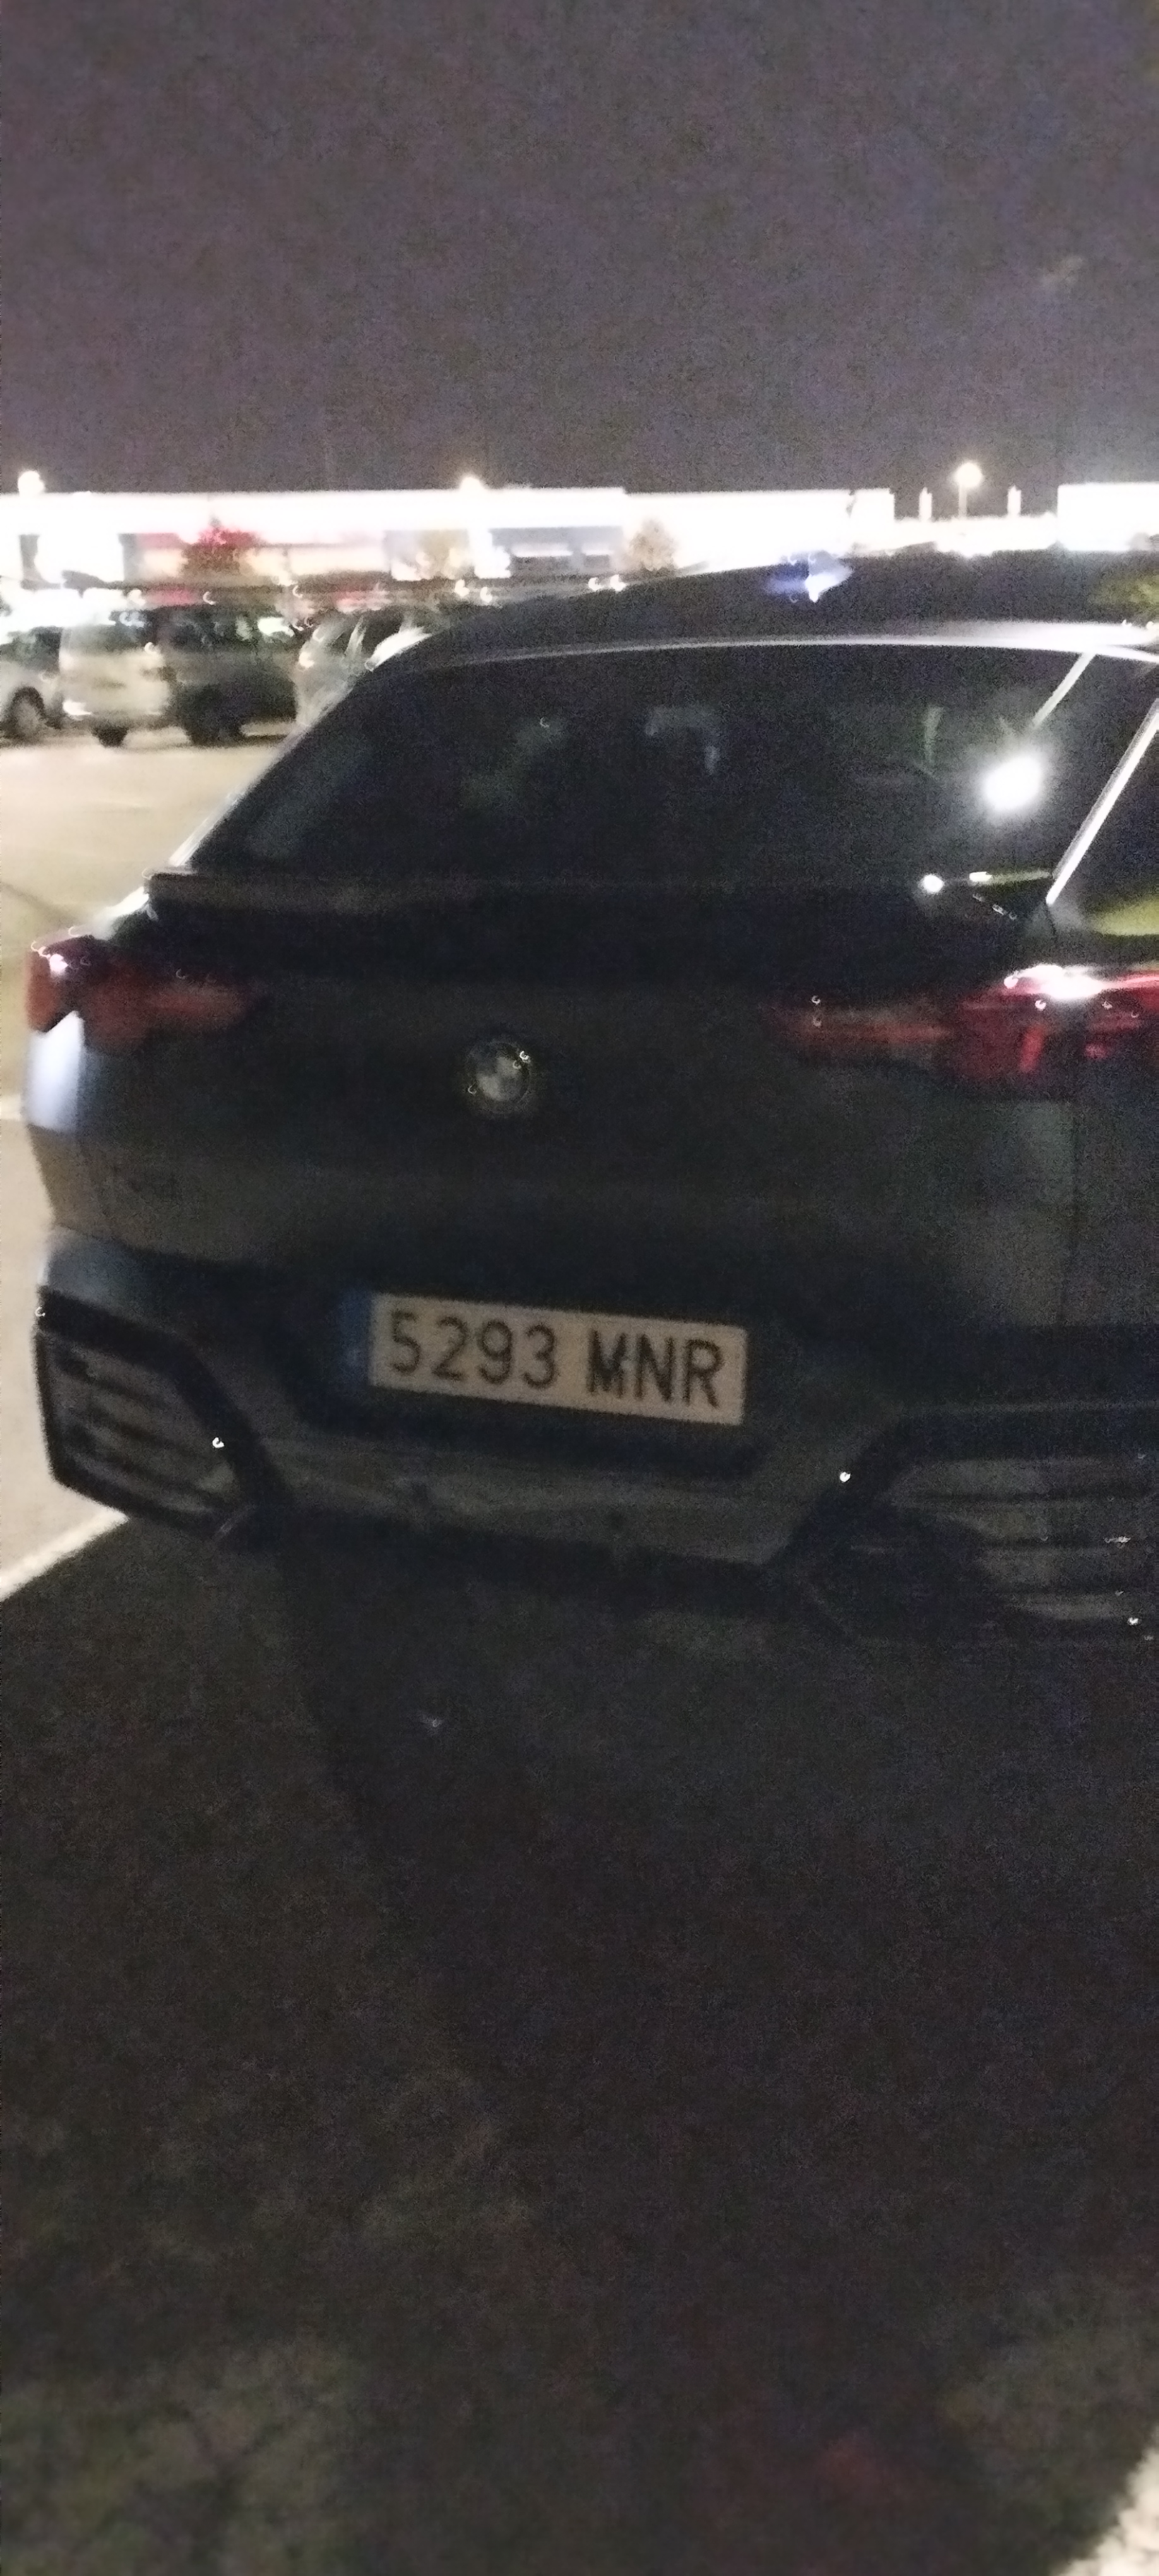Car: (33, 561, 1158, 1685)
Plate: (354, 1283, 750, 1400)
